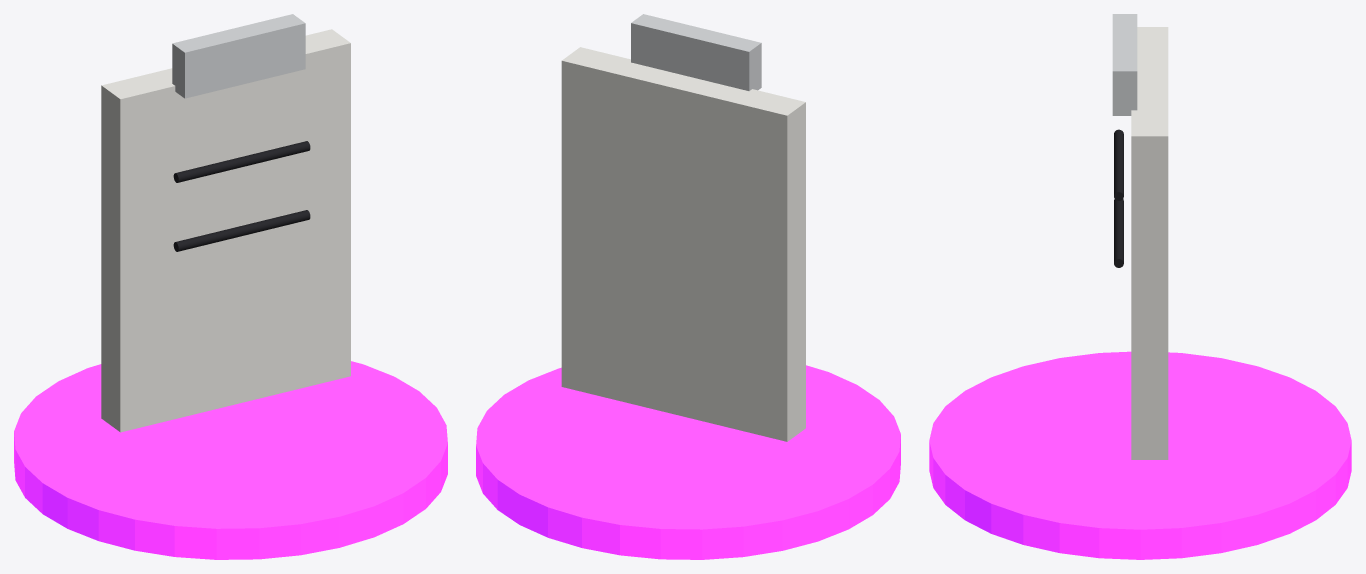
Rendered from modelling_clipboard.glb.
The picture shows the model from 3 angles, left to right: view 1: azimuth 30°, elevation 25°; view 2: azimuth 150°, elevation 25°; view 3: azimuth 270°, elevation 25°; orthographic projection. The views are drawn at different scales.
Visible parts, largest first — view 1: 05_15_Popular_Modelling_Clipboard_part_01, 05_15_Popular_Modelling_Clipboard_ROOT_base, 05_15_Popular_Modelling_Clipboard_part_02, 05_15_Popular_Modelling_Clipboard_part_04, 05_15_Popular_Modelling_Clipboard_part_03; view 2: 05_15_Popular_Modelling_Clipboard_part_01, 05_15_Popular_Modelling_Clipboard_ROOT_base, 05_15_Popular_Modelling_Clipboard_part_02; view 3: 05_15_Popular_Modelling_Clipboard_ROOT_base, 05_15_Popular_Modelling_Clipboard_part_01, 05_15_Popular_Modelling_Clipboard_part_02, 05_15_Popular_Modelling_Clipboard_part_03, 05_15_Popular_Modelling_Clipboard_part_04.
Boxes of the visible parts, x1,y1,x2,y2 form: 05_15_Popular_Modelling_Clipboard_part_01: (101,29,350,432); 05_15_Popular_Modelling_Clipboard_ROOT_base: (14,361,447,559); 05_15_Popular_Modelling_Clipboard_part_02: (172,14,305,98); 05_15_Popular_Modelling_Clipboard_part_04: (173,210,310,251); 05_15_Popular_Modelling_Clipboard_part_03: (173,141,310,182); 05_15_Popular_Modelling_Clipboard_part_01: (561,47,805,441); 05_15_Popular_Modelling_Clipboard_ROOT_base: (476,365,900,559); 05_15_Popular_Modelling_Clipboard_part_02: (631,14,761,90); 05_15_Popular_Modelling_Clipboard_ROOT_base: (929,351,1351,559); 05_15_Popular_Modelling_Clipboard_part_01: (1131,27,1168,459); 05_15_Popular_Modelling_Clipboard_part_02: (1112,14,1137,115); 05_15_Popular_Modelling_Clipboard_part_03: (1114,129,1123,200); 05_15_Popular_Modelling_Clipboard_part_04: (1114,199,1123,267).
Bounding box in the file's own units: 0.76 × 0.85 × 0.76.
